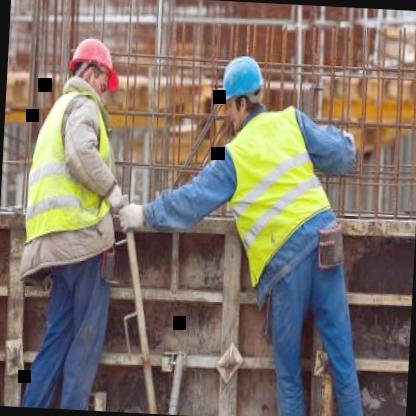helmet: (214, 47, 269, 135), (60, 29, 122, 102)
